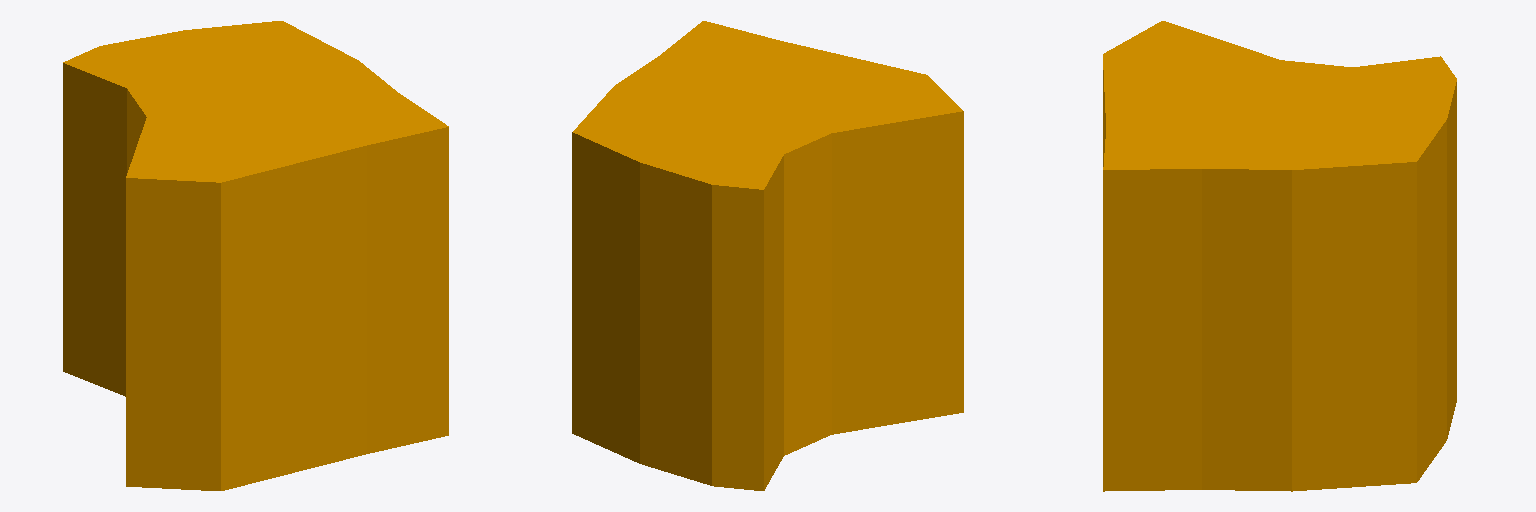
The robot description file, URDF, robot "object":
<?xml version="1.0"?>
<robot name="object">
  <link name="object">
    <visual>
      <origin xyz="0 0 0"/>
      <geometry>
        <mesh filename="meshes/polygon/poly_86_s.obj" scale=".03 .03 .03"/>
      </geometry>
    </visual>
    <collision>
  <origin xyz="0 0 0"/>
  <geometry>
    <mesh filename="meshes/polygon/poly_86_s_0decompose.obj" scale=".03 .03 .03"/>
<!--          <mesh filename="meshes/custom/obj0_ball.obj" scale=".05 .05 .05"/>-->
  </geometry>
</collision><collision>
  <origin xyz="0 0 0"/>
  <geometry>
    <mesh filename="meshes/polygon/poly_86_s_1decompose.obj" scale=".03 .03 .03"/>
<!--          <mesh filename="meshes/custom/obj0_ball.obj" scale=".05 .05 .05"/>-->
  </geometry>
</collision>

<!--    <collision>-->
<!--      <origin xyz="0 0 0"/>-->
<!--      <geometry>-->
<!--        <mesh filename="meshes/polygon/poly_86_s.obj" scale=".03 .03 .03"/>-->
<!--&lt;!&ndash;          <mesh filename="meshes/custom/obj0_ball.obj" scale=".05 .05 .05"/>&ndash;&gt;-->
<!--      </geometry>-->
<!--    </collision>-->
    <inertial>
      <density value="1000.0"/>
    </inertial>
  </link>
</robot>

--- Facts derived from the render (not from the file) ---
3 views of the same robot in one strip: view 1: azimuth 30°, elevation 25°; view 2: azimuth 150°, elevation 25°; view 3: azimuth 270°, elevation 25° (orthographic).
Robot: object — 1 links, 0 joints (none); root link object; default pose: all joints at 0.
Links seen in each view (by area): view 1: object; view 2: object; view 3: object.
Link boxes in pixels (bbox=[...]): object: bbox=[63, 21, 448, 490]; object: bbox=[572, 21, 963, 490]; object: bbox=[1103, 21, 1456, 491].
Bounding box of the posed robot: 0.06 × 0.06 × 0.06 m (x, y, z).
Meshes: 1 distinct files referenced, 1 mesh visuals loaded (1 OBJ).
